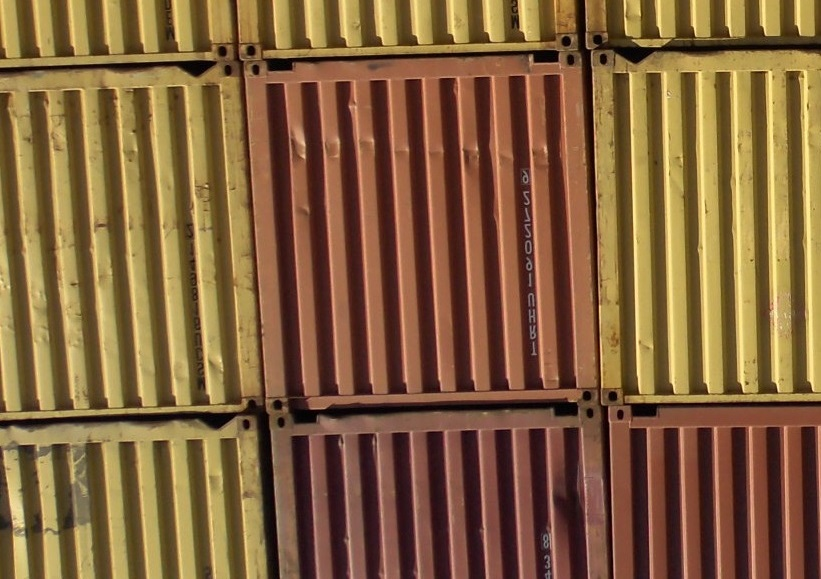container_no_door: (249, 48, 585, 399), (1, 69, 259, 400), (597, 48, 820, 402), (270, 406, 602, 579), (1, 406, 263, 579), (608, 406, 821, 579)
